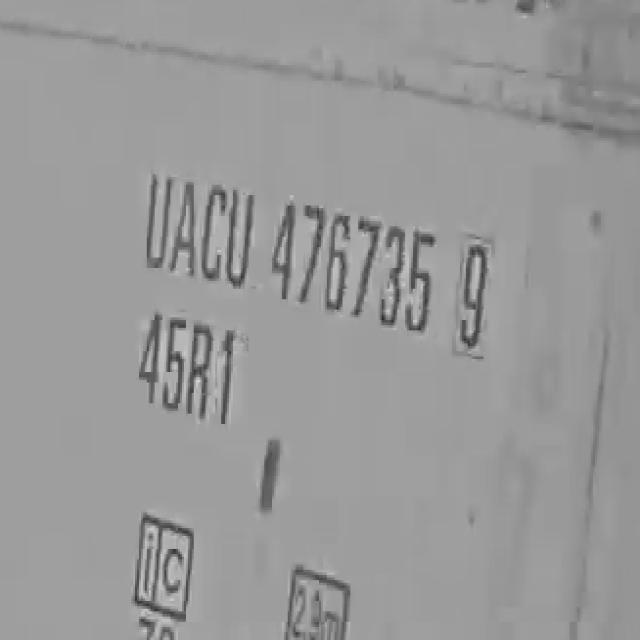dv: (443, 225, 497, 358)
owner: (133, 160, 254, 299)
serial: (266, 191, 437, 341)
size: (123, 297, 245, 441)
